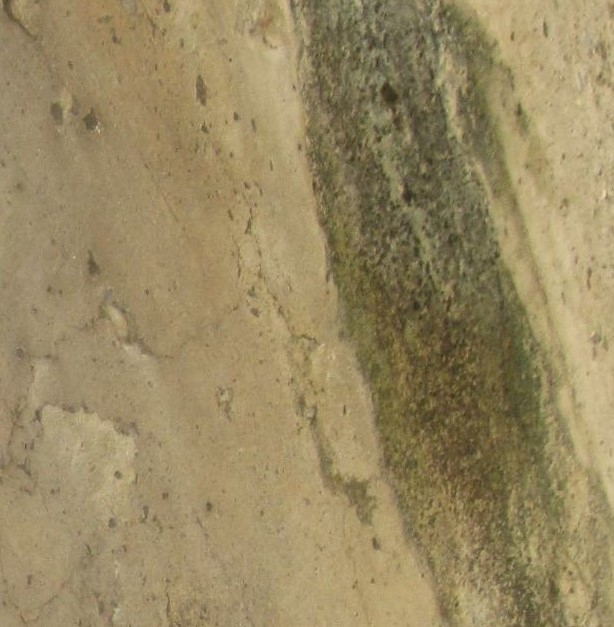Corrosion: (290, 1, 614, 627)
